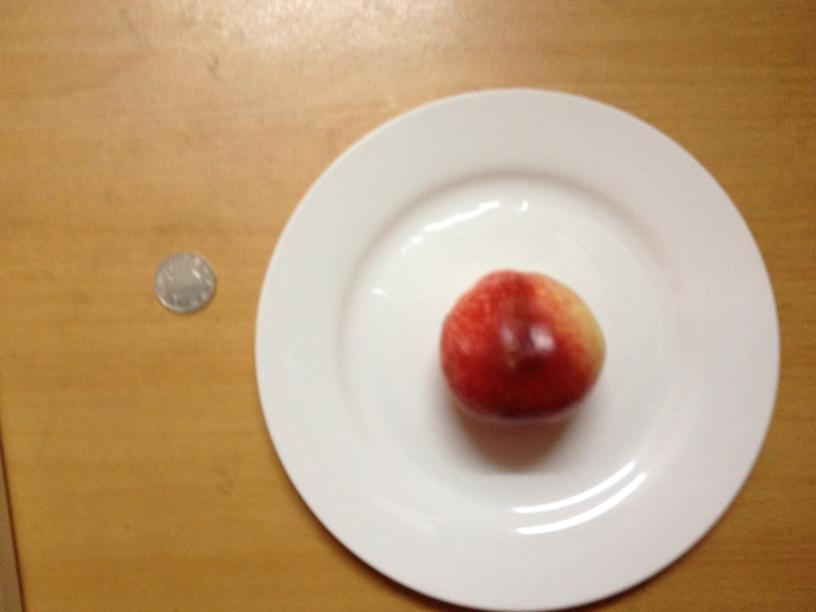coin: (153, 251, 219, 314)
peach: (436, 268, 607, 426)
